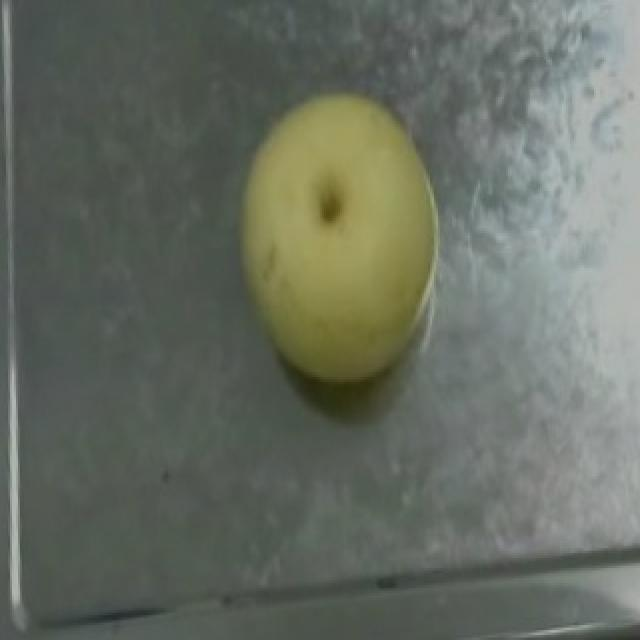Fruit: (218, 67, 468, 402)
